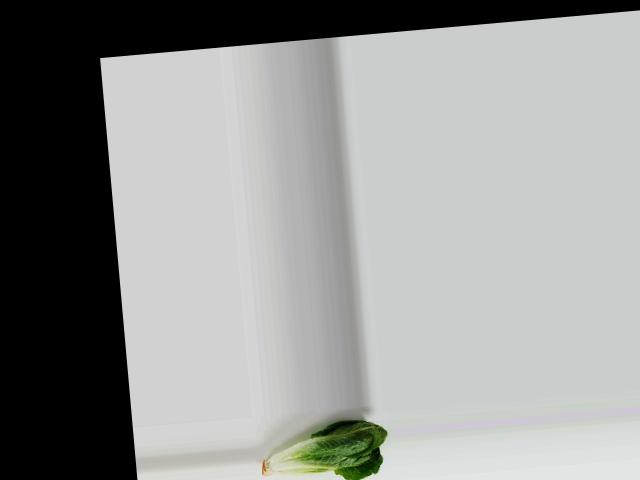lettuce: (251, 413, 391, 480)
